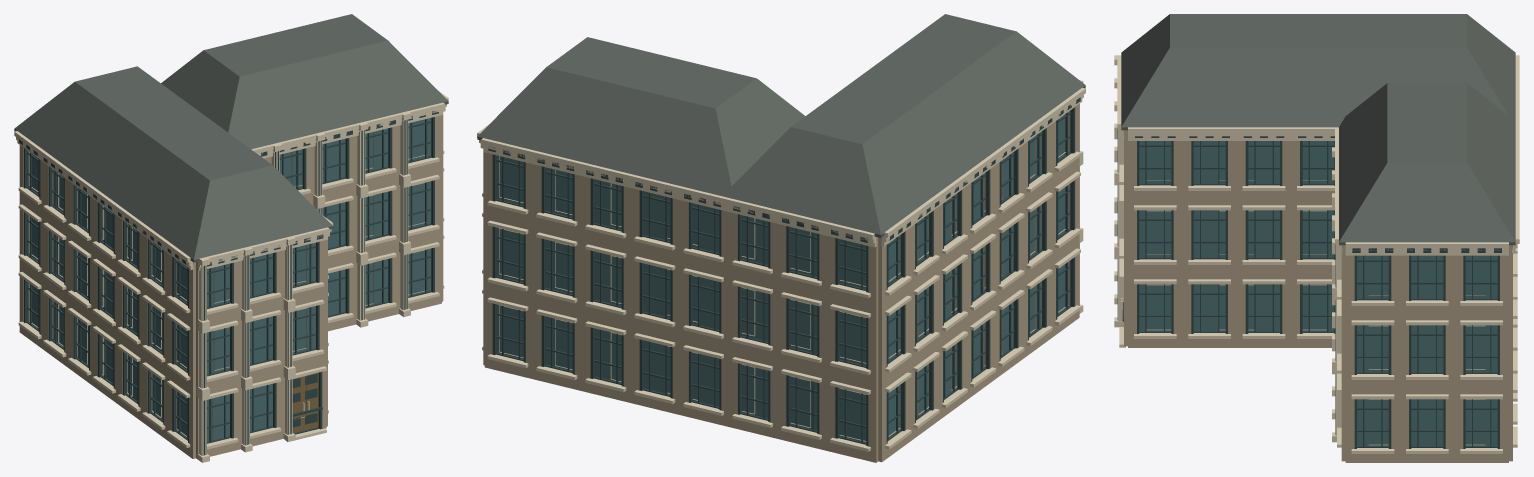
File: city-library.glb
3 views of the same model, side by side, from view 1: azimuth 30°, elevation 25°; view 2: azimuth 150°, elevation 25°; view 3: azimuth 270°, elevation 25° (orthographic). The views are drawn at different scales.
Visible parts, largest first — view 1: Roof main.026, Roof wing.007, Foundation.045, main/north/0/8333/frame.009, main/north/0/1667/wall.009, main/north/1/1667/wall.009, main/west/1/9286/wall.006, main/west/0/9286/wall.006, main/north/1/8333/wall.009, main/north/0/8333/door.001, wing/north/0/9000/wall.002, wing/north/1/7000/wall.002 (+101 smaller); view 2: Roof main.026, Roof wing.007, Foundation.045, main/south/1/1667/wall.012, main/south/0/1667/wall.012, main/south/1/8333/wall.012, wing/south/0/5000/wall.002, wing/south/1/7000/wall.002, wing/south/1/5000/wall.002, wing/south/1/9000/wall.002, wing/south/0/7000/wall.002, wing/south/0/1000/wall.002 (+101 smaller); view 3: Roof main.026, Roof wing.007, main/east/0/6429/wall.003, main/east/0/7857/wall.003, main/east/0/9286/wall.006, main/east/1/6429/wall.003, main/east/1/7857/wall.003, main/east/1/9286/wall.006, wing/east/0/1667/wall.007, wing/east/0/5000/wall.007, wing/east/0/8333/wall.007, wing/east/1/1667/wall.004 (+78 smaller).
Part boxes in pixels (x1,y1,x2,y2): Roof main.026: (14, 66, 333, 262); Roof wing.007: (161, 14, 448, 149); Foundation.045: (29, 119, 427, 440); main/north/0/8333/frame.009: (292, 372, 322, 434); main/north/0/1667/wall.009: (196, 382, 240, 459); main/north/1/1667/wall.009: (196, 314, 240, 390); main/west/1/9286/wall.006: (168, 306, 195, 391); main/west/0/9286/wall.006: (168, 374, 195, 458); main/north/1/8333/wall.009: (283, 294, 326, 368); main/north/0/8333/door.001: (292, 372, 318, 432); wing/north/0/9000/wall.002: (399, 236, 441, 310); wing/north/1/7000/wall.002: (356, 179, 398, 253); Roof main.026: (722, 14, 1085, 237); Roof wing.007: (477, 37, 805, 195); Foundation.045: (499, 111, 1068, 441); main/south/1/1667/wall.012: (827, 297, 878, 385); main/south/0/1667/wall.012: (827, 374, 878, 462); main/south/1/8333/wall.012: (729, 273, 778, 361); wing/south/0/5000/wall.002: (582, 314, 631, 403); wing/south/1/7000/wall.002: (533, 226, 582, 314); wing/south/1/5000/wall.002: (582, 238, 631, 326); wing/south/1/9000/wall.002: (484, 214, 533, 302); wing/south/0/7000/wall.002: (533, 302, 582, 391); wing/south/0/1000/wall.002: (680, 338, 729, 426); Roof main.026: (1121, 14, 1515, 130); Roof wing.007: (1339, 83, 1515, 245); main/east/0/6429/wall.003: (1237, 274, 1291, 347); main/east/0/7857/wall.003: (1182, 274, 1236, 347); main/east/0/9286/wall.006: (1128, 274, 1182, 347); main/east/1/6429/wall.003: (1237, 200, 1291, 273); main/east/1/7857/wall.003: (1182, 200, 1236, 273); main/east/1/9286/wall.006: (1128, 200, 1182, 273); wing/east/0/1667/wall.007: (1454, 389, 1508, 462); wing/east/0/5000/wall.007: (1400, 389, 1454, 462); wing/east/0/8333/wall.007: (1345, 389, 1399, 462); wing/east/1/1667/wall.004: (1454, 315, 1508, 388).
Bounding box in the file's own units: 16.79 × 11.5 × 14.9.
